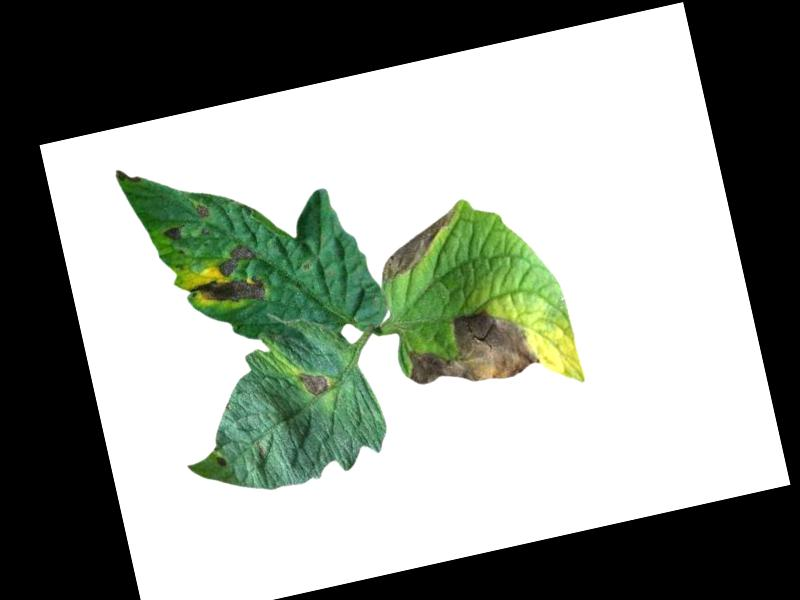Early_blight: (397, 296, 543, 401), (370, 204, 469, 281), (182, 240, 271, 317), (297, 365, 332, 397), (160, 223, 185, 244), (193, 201, 211, 219)
